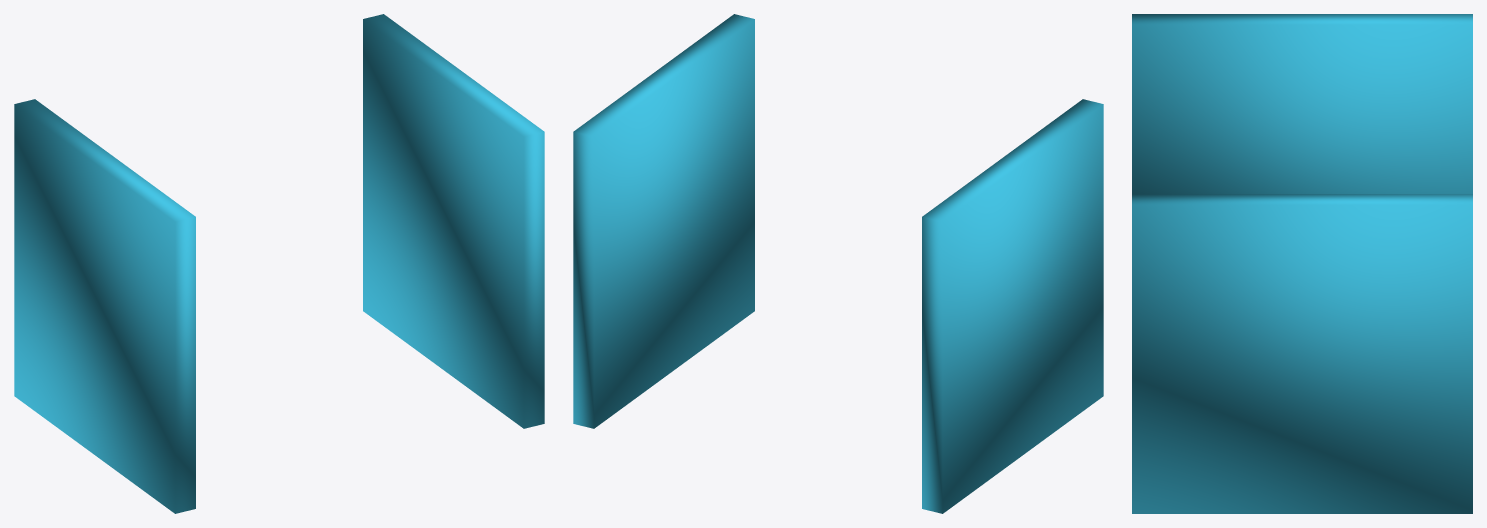
File: machine5_glass.fbx
3 renders of one model, left to right at view 1: azimuth 30°, elevation 25°; view 2: azimuth 150°, elevation 25°; view 3: azimuth 270°, elevation 25°, orthographic. The views are drawn at different scales.
Visible parts, largest first — view 1: Plane_014; view 2: Plane_014; view 3: Plane_014.
Part boxes in pixels (x1,y1,x2,y2): Plane_014: (14, 14, 544, 513); Plane_014: (573, 14, 1103, 513); Plane_014: (1132, 14, 1472, 513).
Size of the model in its own units: 5.3 by 4 by 4.
1 material, 1 textured.
